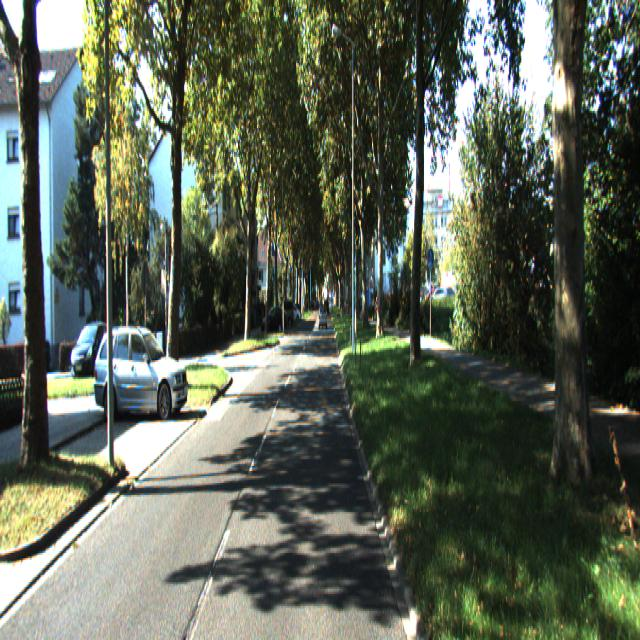Car: (91, 327, 192, 422)
